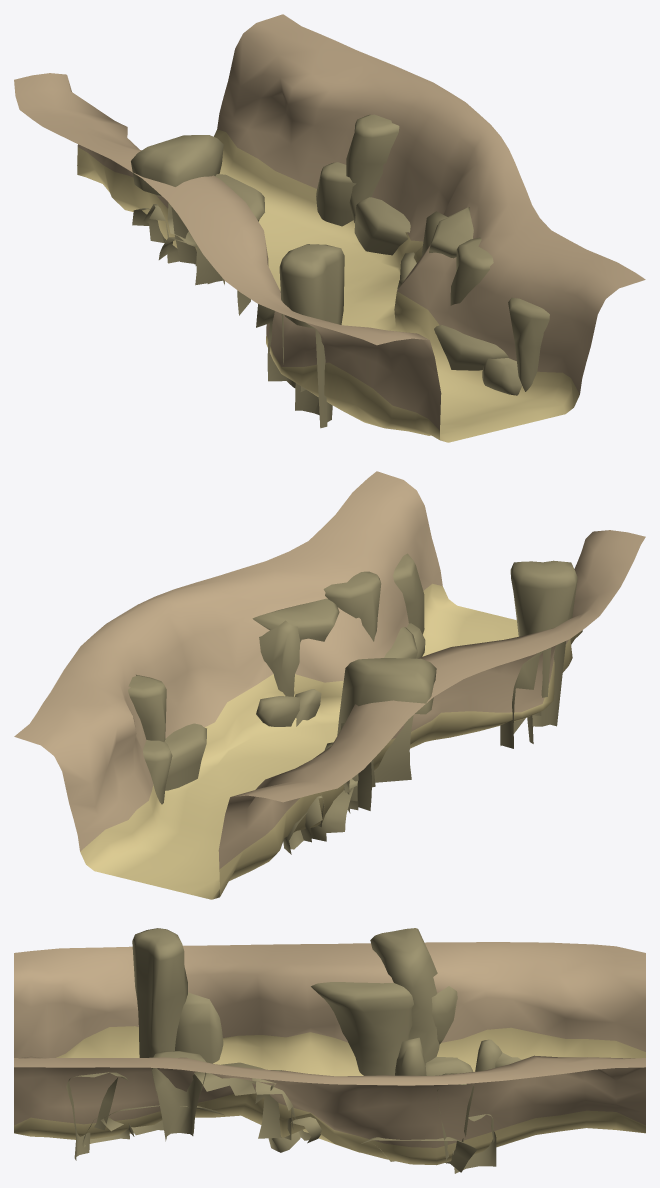
The model's file is chunk01_mesh.fbx.
The picture shows the model from 3 angles, top to bottom: view 1: azimuth 30°, elevation 25°; view 2: azimuth 150°, elevation 25°; view 3: azimuth 270°, elevation 25°; orthographic projection. The views are drawn at different scales.
Parts seen in each view (by area): view 1: levelChunk01; view 2: levelChunk01; view 3: levelChunk01.
Boxes of the visible parts, x1,y1,x2,y2 form: levelChunk01: (14,14,645,442); levelChunk01: (14,471,645,899); levelChunk01: (14,928,645,1173).
Bounding box in the file's own units: 84.12 × 38.7 × 150.
